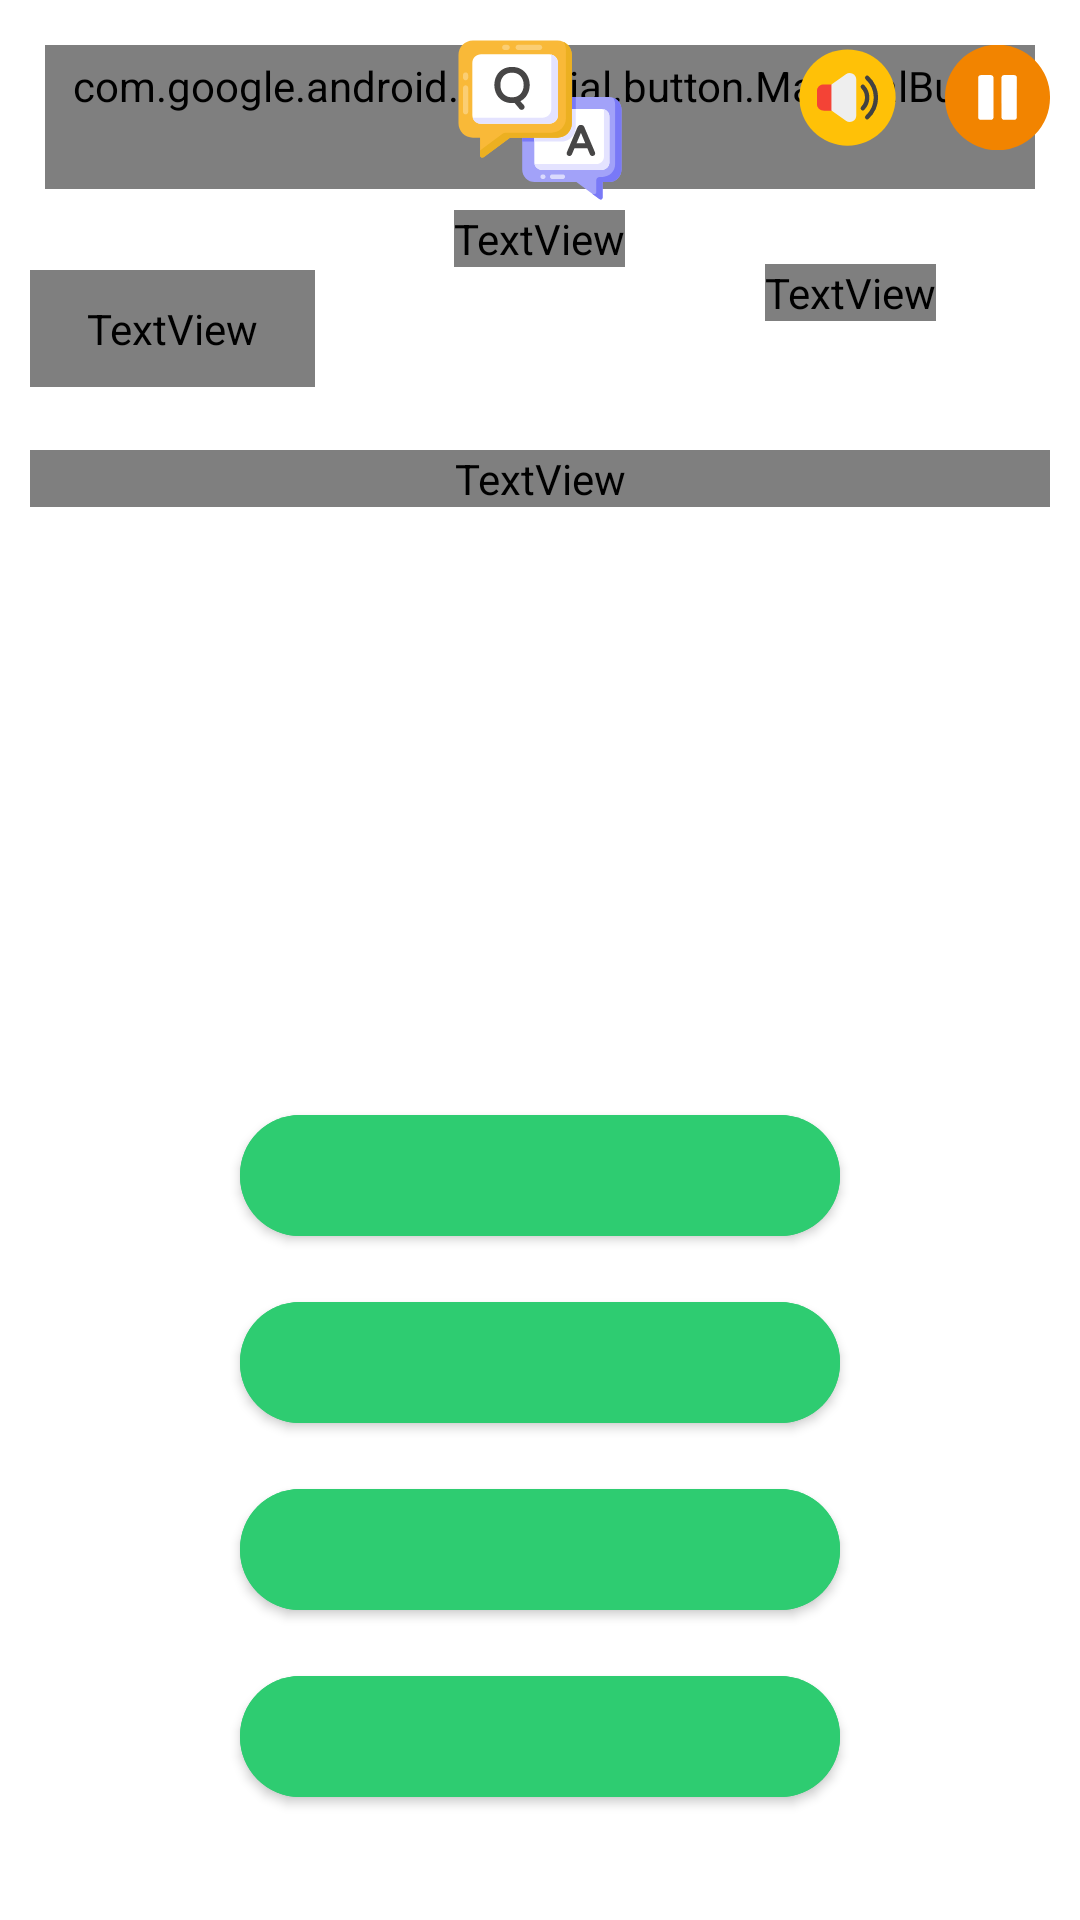

Where to tap for icons on this 1080*1920 app screen, as (x,y):
pause: (997,97)
quiz: (540,120)
sound: (845,97)
